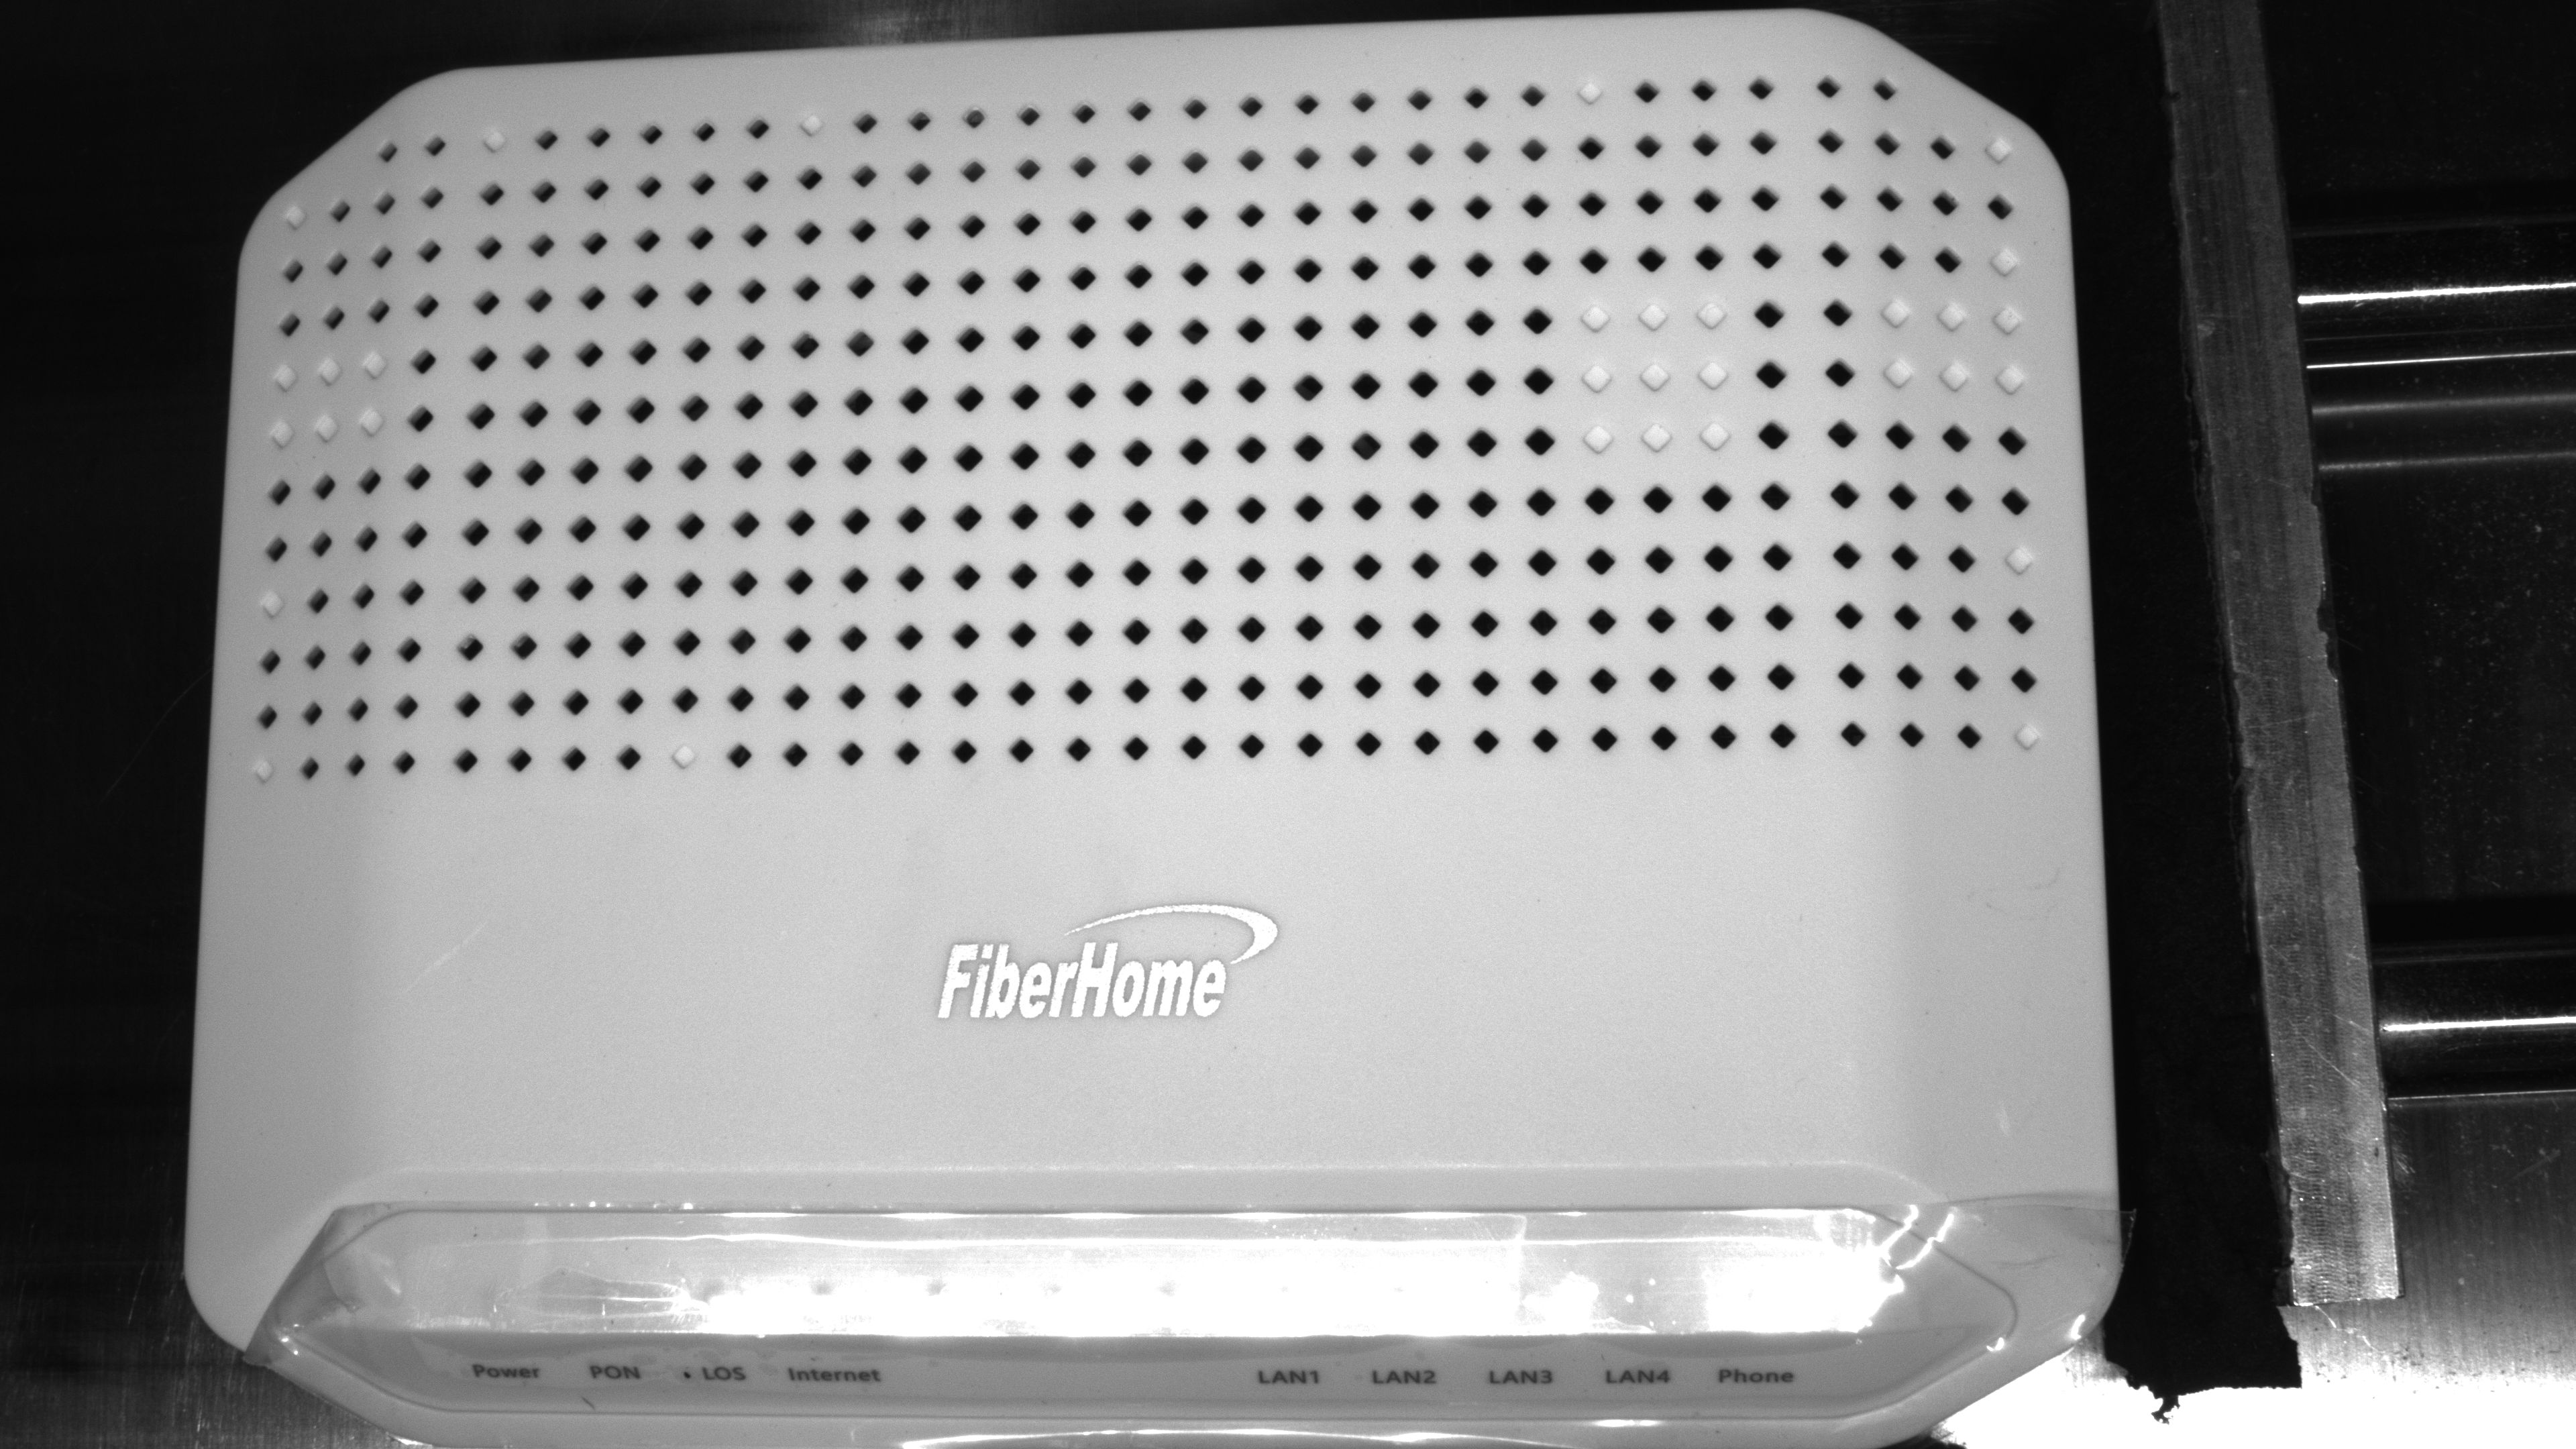AI_FiberHome: (828, 819, 1338, 1069)
